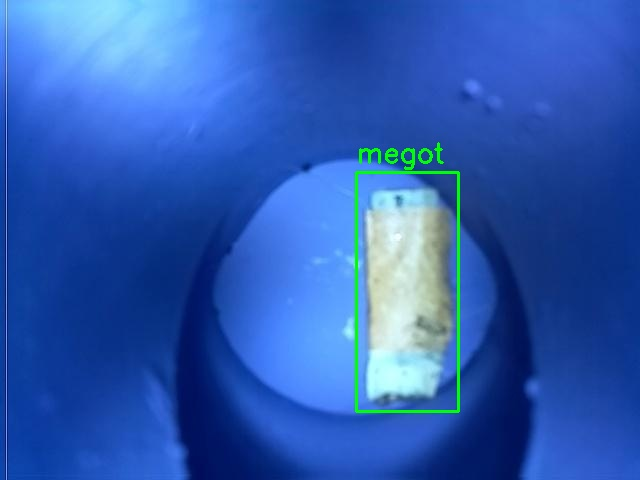megot: (356, 172, 458, 411)
